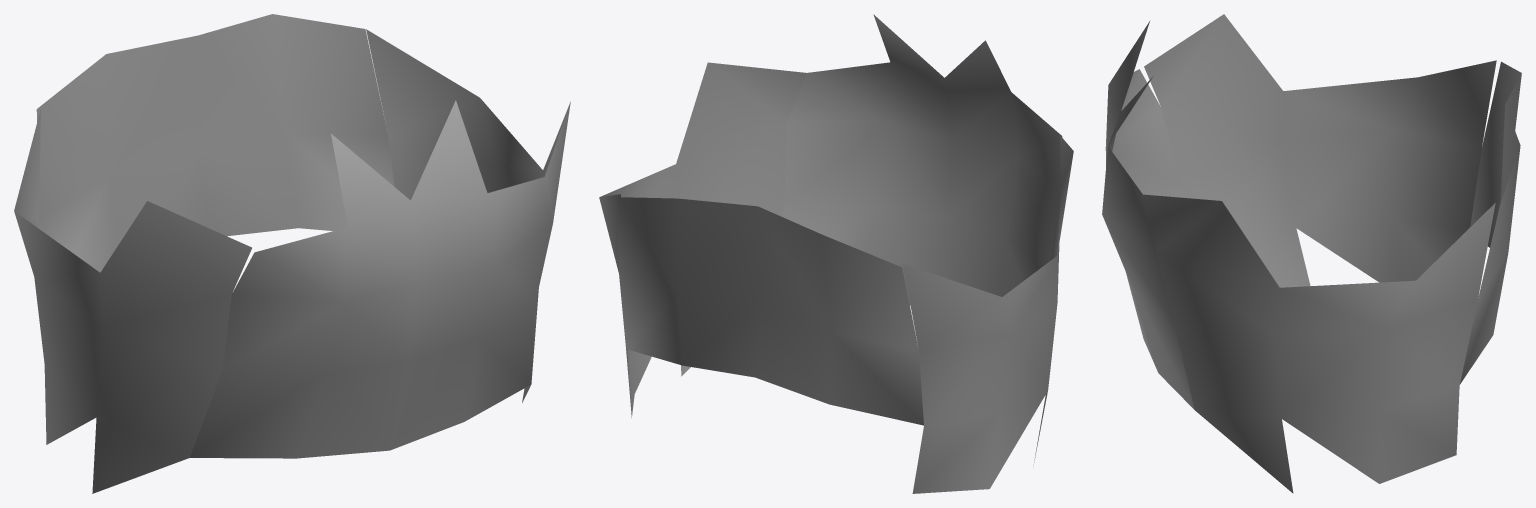
The model's file is spine1.glb.
The picture shows the model from 3 angles, left to right: view 1: azimuth 30°, elevation 25°; view 2: azimuth 150°, elevation 25°; view 3: azimuth 270°, elevation 25°; orthographic projection. The views are drawn at different scales.
Parts seen in each view (by area): view 1: polo-grey_SPINE1; view 2: polo-grey_SPINE1; view 3: polo-grey_SPINE1.
Boxes of the visible parts, x1,y1,x2,y2 form: polo-grey_SPINE1: (14, 14, 570, 493); polo-grey_SPINE1: (599, 14, 1073, 493); polo-grey_SPINE1: (1102, 14, 1521, 493).
Size of the model in its own units: 0.3731 by 0.3036 by 0.3246.
1 material, 1 textured.
